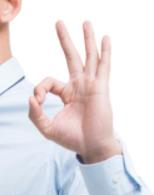left: (23, 18, 116, 149)
